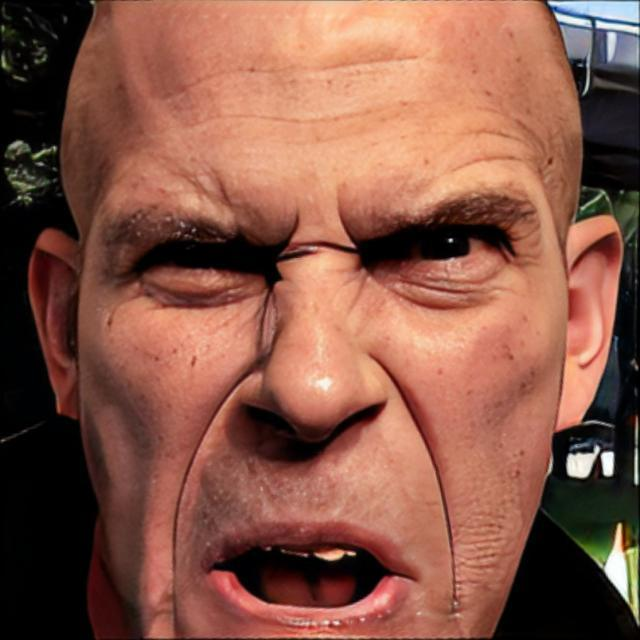anger: (85, 0, 574, 640)
